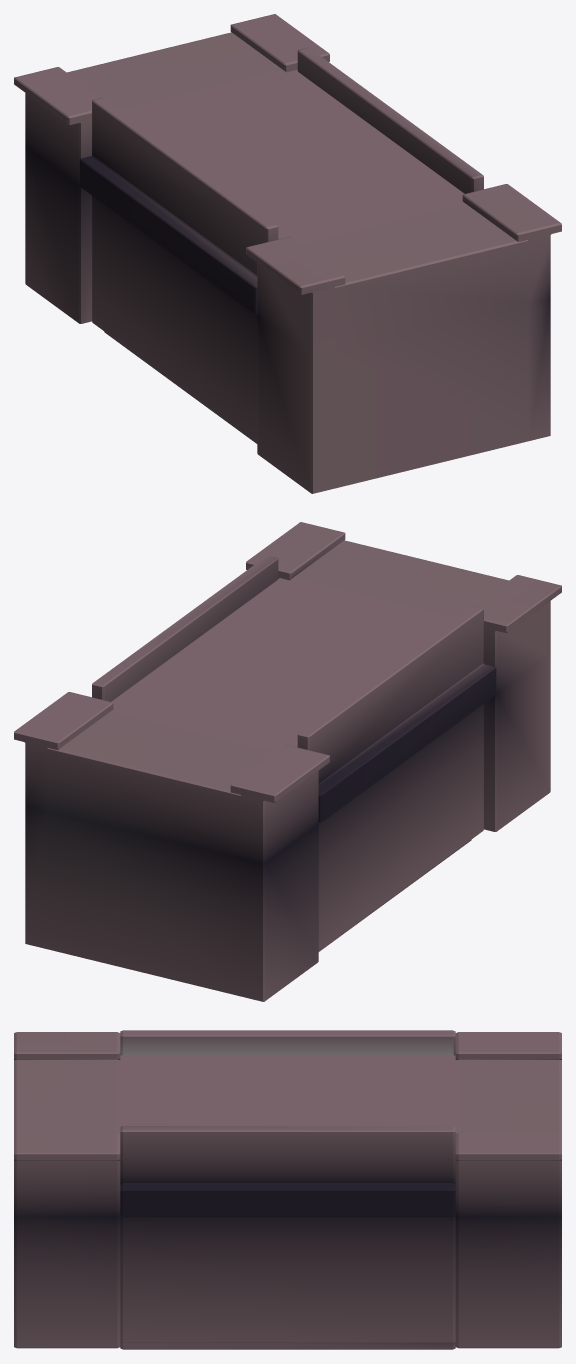
Rendered from bridge3.fbx.
3 views of the same model, one above another, from view 1: azimuth 30°, elevation 25°; view 2: azimuth 150°, elevation 25°; view 3: azimuth 270°, elevation 25° (orthographic). The views are drawn at different scales.
Visible parts, largest first — view 1: bridge2; view 2: bridge2; view 3: bridge2.
Boxes of the visible parts, box(x1,y1,x2,y2) form: bridge2: box(14, 14, 561, 493); bridge2: box(14, 522, 561, 1001); bridge2: box(14, 1030, 561, 1349).
Bounding box in the file's own units: 95.02 × 81.6 × 181.
